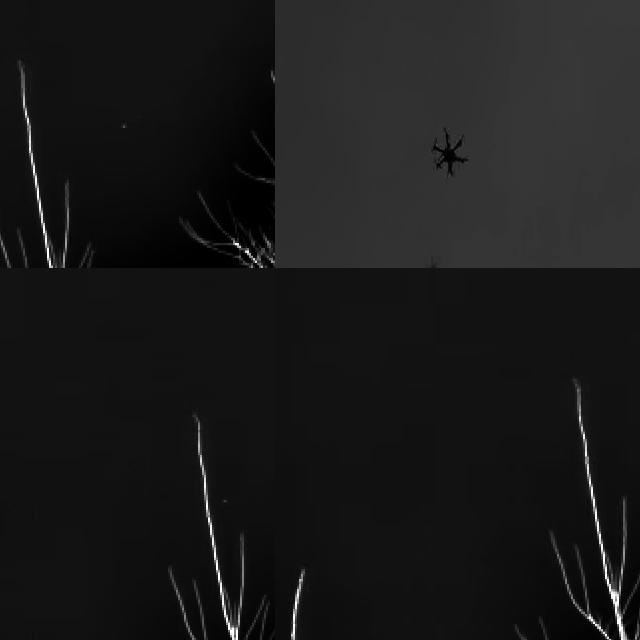0: (106, 116, 136, 146), (211, 492, 233, 512)
drone: (430, 119, 470, 182)
